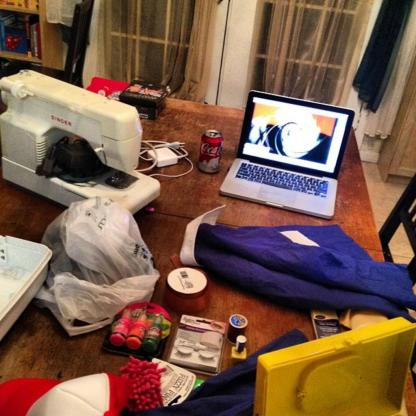board: (216, 85, 360, 221), (199, 127, 224, 181)
